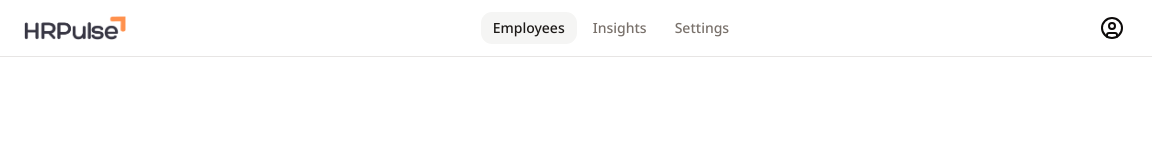
Navbar › user menu › does not render a standalone settings item in the dropdown (it is a nav link)
Expected: the link "Settings" is shown, [675,18,729,37]
Click the button named "user menu" at (1112, 28), box [1096,12,1128,44]
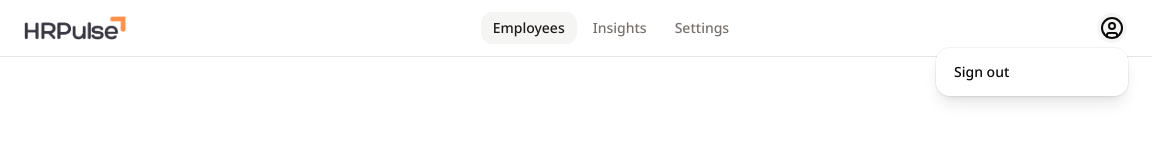
Expected: the menu item "Sign out" is shown, [954,62,1009,81]
